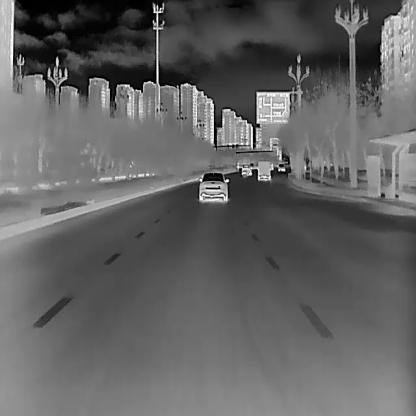car: (197, 171, 228, 202), (256, 159, 272, 181), (240, 164, 252, 176), (276, 162, 284, 172)
